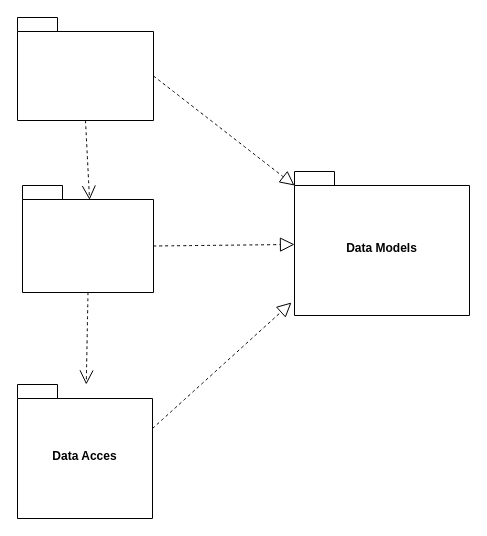
This 487x536 diagram has some shape labels left out. Here are the shapes that lost their labels. From the top down, the box of each, then its label:
(16, 16, 154, 120): Graphical User Interface
(22, 184, 154, 292): Business Logic
